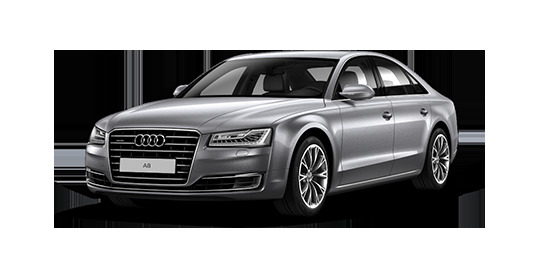audi: (75, 51, 463, 216)
